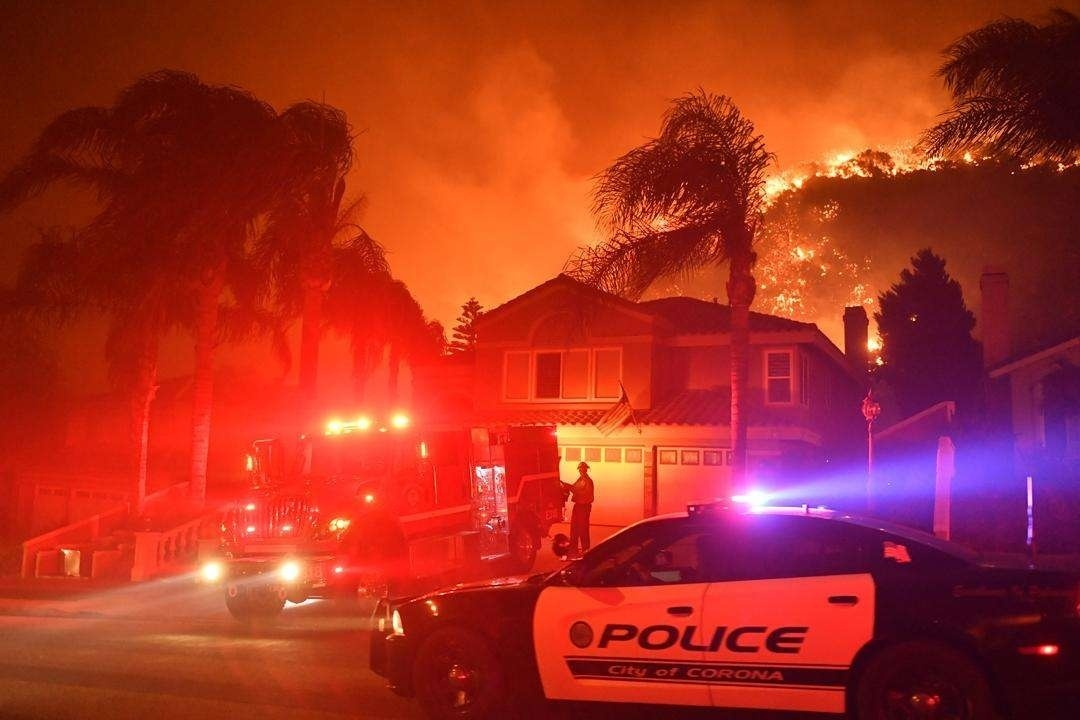fire: (748, 129, 952, 338), (319, 405, 413, 440), (641, 200, 684, 234)
